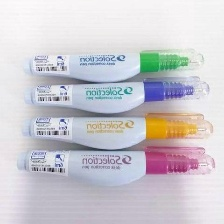correction_fluid: (13, 142, 218, 188), (19, 109, 216, 153), (21, 73, 211, 116), (20, 45, 206, 85)
